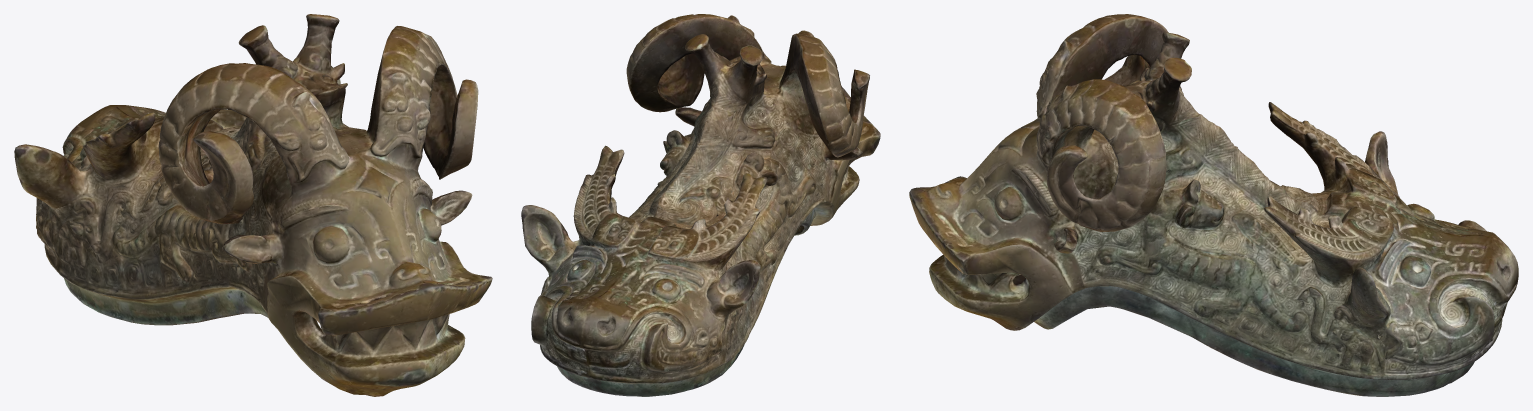
Rendered from bronze_gong.glb.
The picture shows the model from 3 angles, left to right: view 1: azimuth 30°, elevation 25°; view 2: azimuth 150°, elevation 25°; view 3: azimuth 270°, elevation 25°; orthographic projection. The views are drawn at different scales.
Parts seen in each view (by area): view 1: part01-std.glb; view 2: part01-std.glb; view 3: part01-std.glb.
Boxes of the visible parts, x1,y1,x2,y2 form: part01-std.glb: [14, 14, 492, 396]; part01-std.glb: [521, 14, 880, 396]; part01-std.glb: [909, 14, 1518, 396].
Bounding box in the file's own units: 0.1432 × 0.1466 × 0.2606.
1 material, 1 textured.
